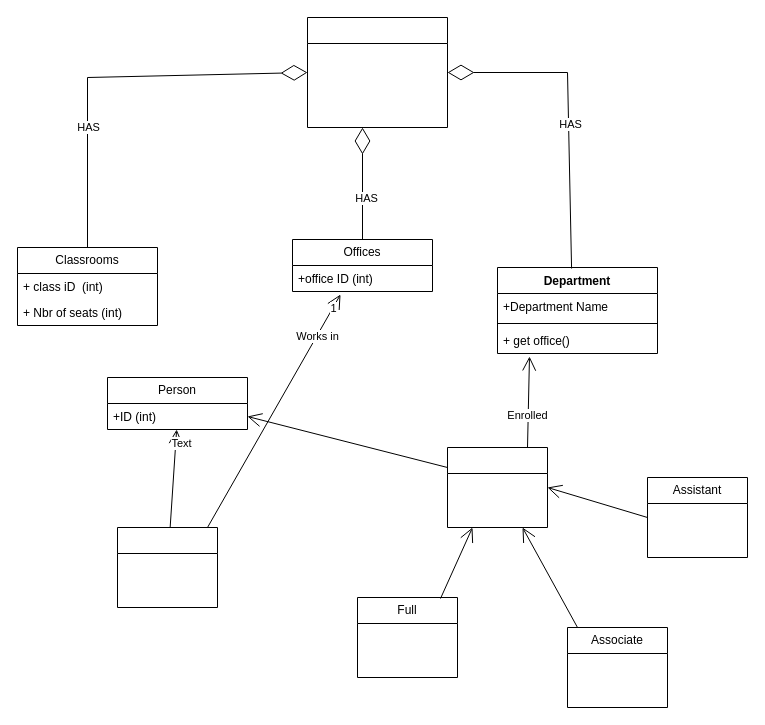
This 765x725 diagram has some shape labels left out. The centre of each missing label's shape, as x and y in pixels:
Employee: pixel 167 567
Proffessor: pixel 497 487
University: pixel 377 72
